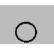no answer: (13, 16, 43, 48)
